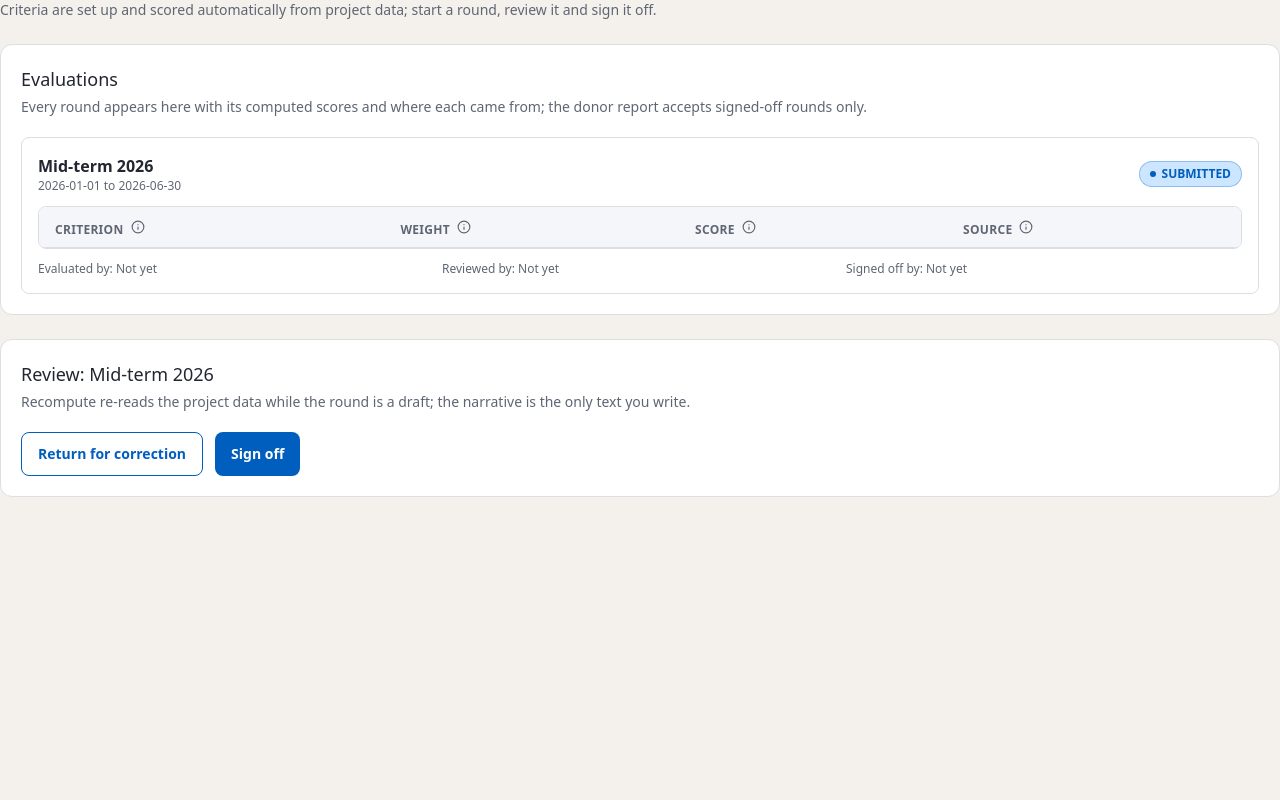
Test: evaluation workspace actions › reports the return success once and refreshes the read
Click the button "Return for correction": (112, 454) [21, 432, 203, 476]
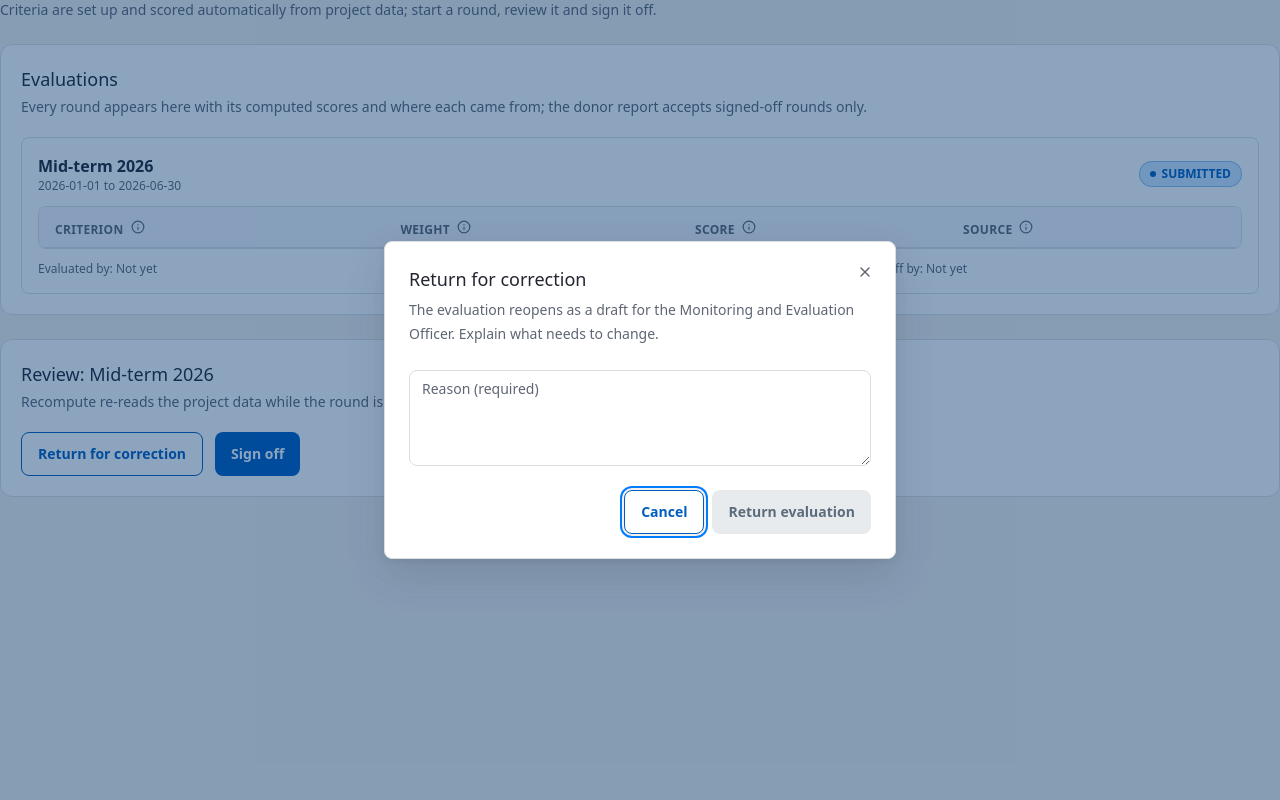
In the text box named "Reason for returning": (640, 418) [409, 370, 871, 466], type "Recheck the scores"
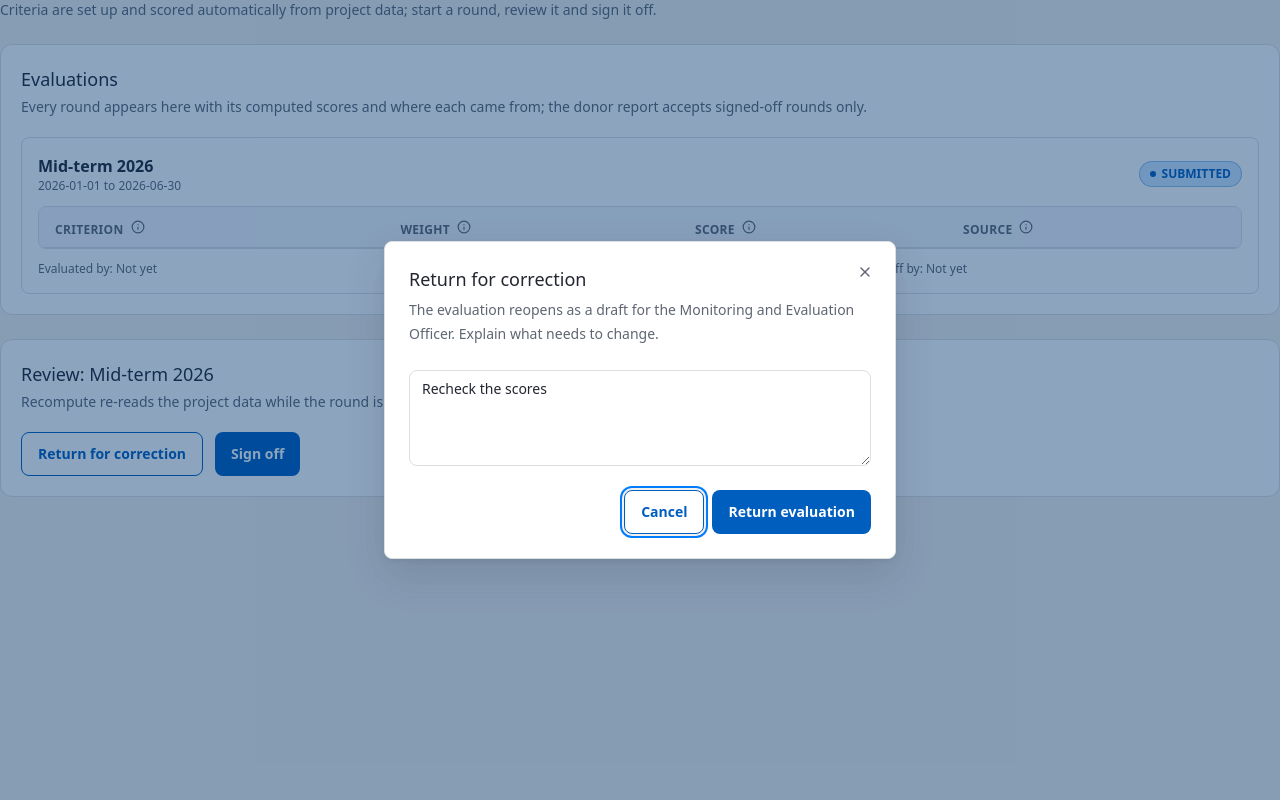
Click the button "Return evaluation": (792, 512) [712, 490, 871, 534]
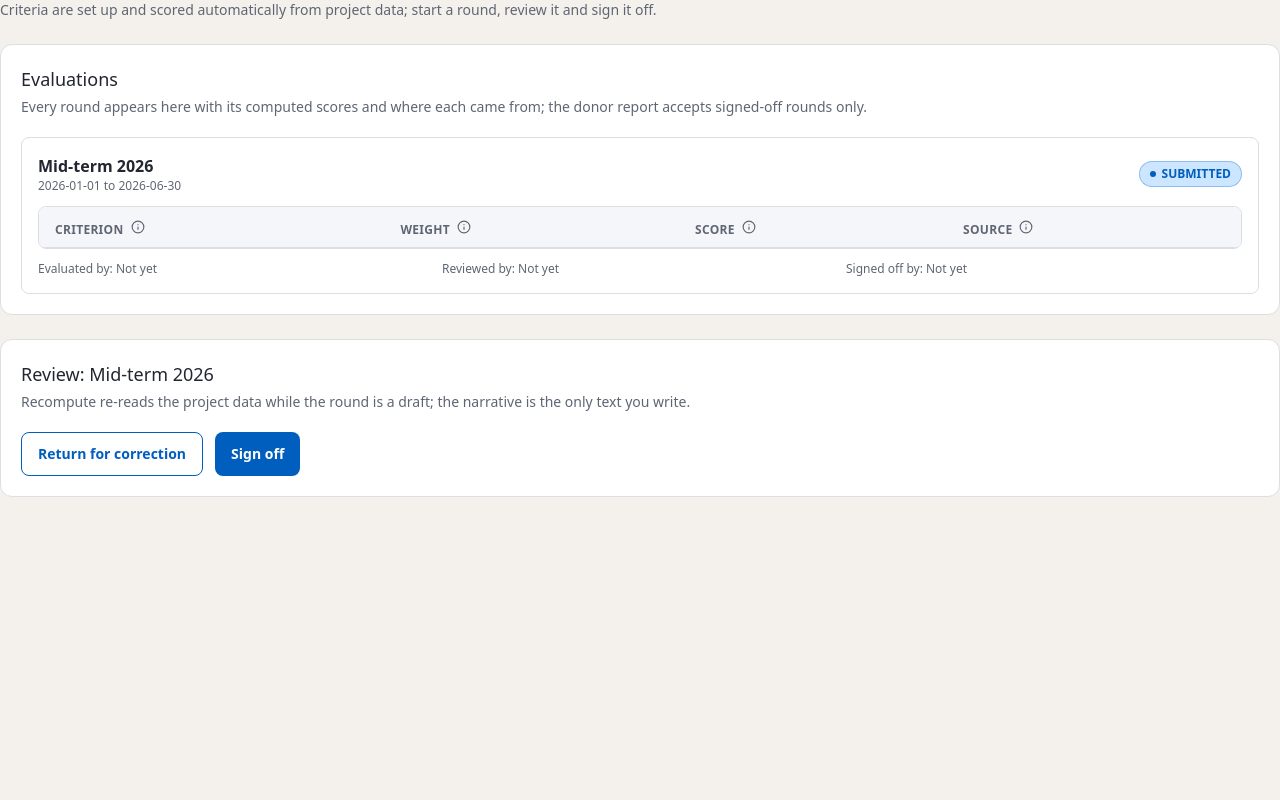
Expected: the dialog is gone
